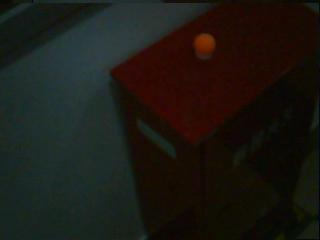oball: (194, 33, 215, 55)
